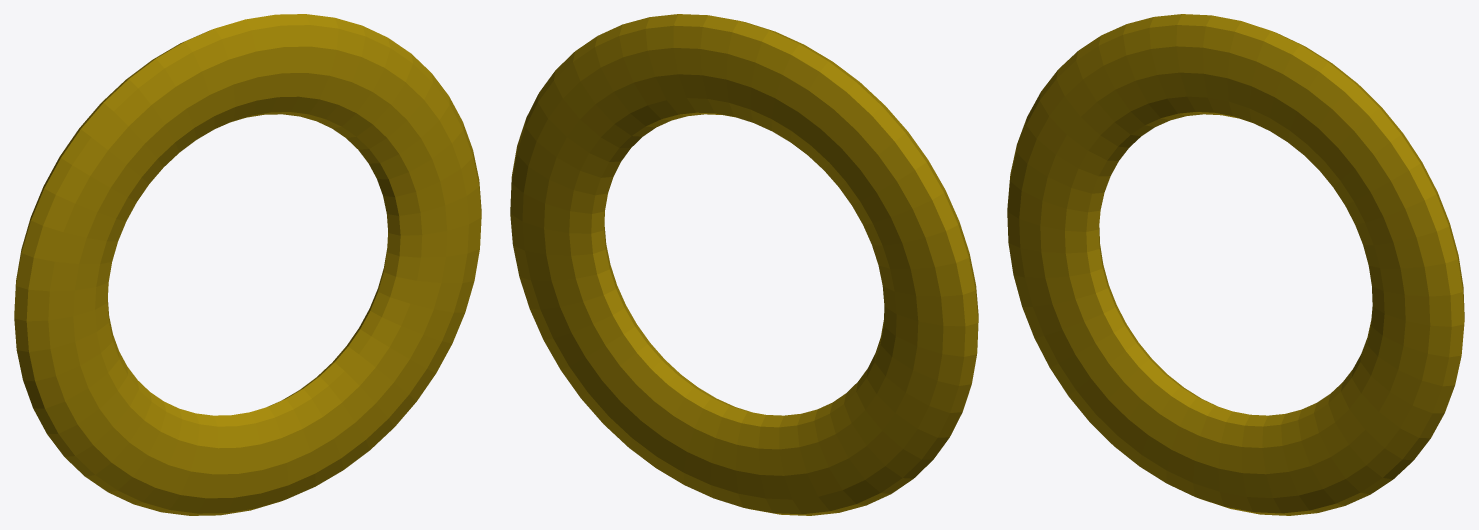
The model's file is aro.obj.
The picture shows the model from 3 angles, left to right: view 1: azimuth 30°, elevation 25°; view 2: azimuth 150°, elevation 25°; view 3: azimuth 330°, elevation 25°; orthographic projection. The views are drawn at different scales.
Parts seen in each view (by area): view 1: Torus; view 2: Torus; view 3: Torus.
Part boxes in pixels (<box>): Torus: <box>14,14,481,515</box>; Torus: <box>510,14,978,515</box>; Torus: <box>1007,14,1464,515</box>.
Size of the model in its own units: 5.32 by 5.31 by 0.6551.
